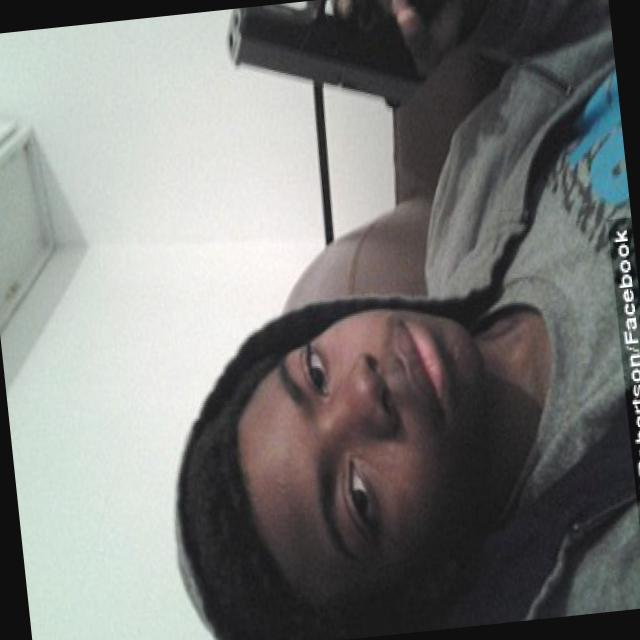handgun: (217, 0, 439, 130)
